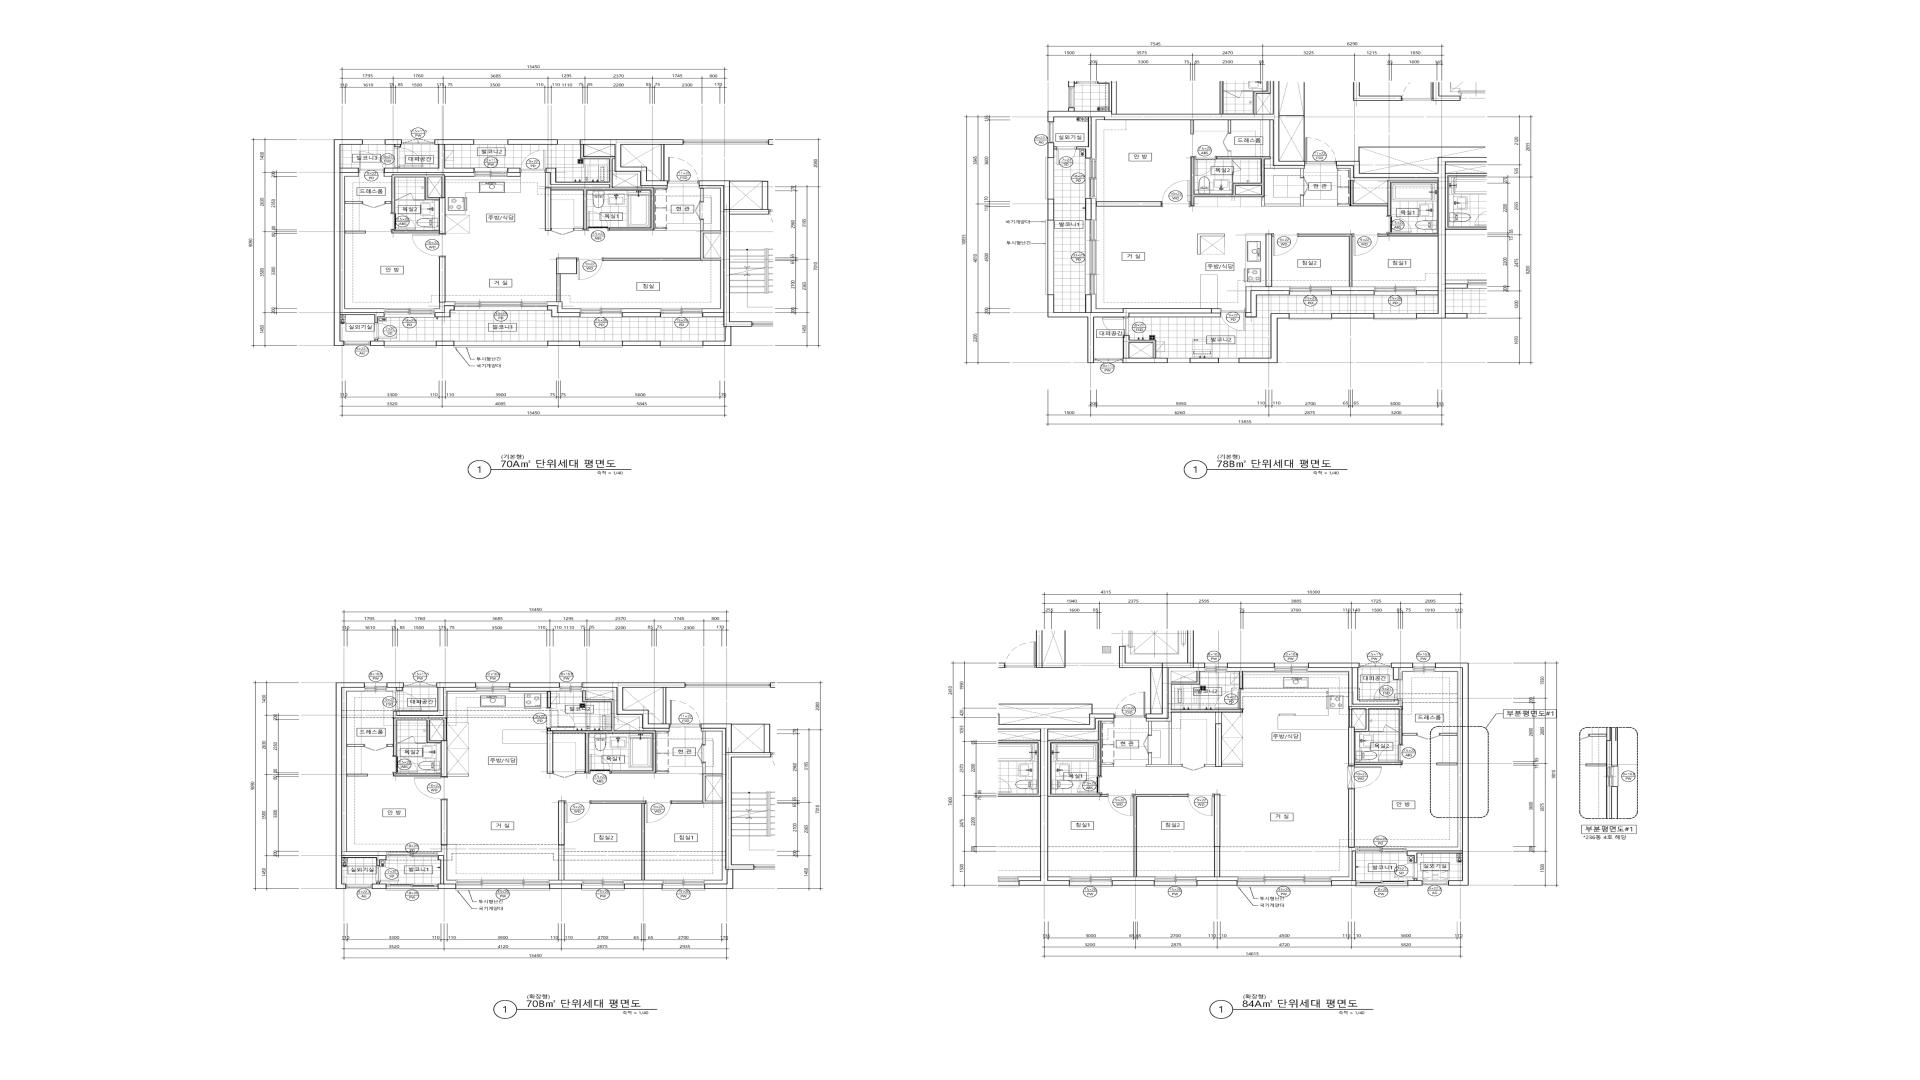door: (669, 700, 700, 727), (667, 157, 699, 183), (1114, 692, 1146, 719), (1305, 137, 1336, 164), (413, 233, 446, 257), (1162, 181, 1191, 207), (1349, 766, 1382, 789), (1352, 233, 1379, 256), (1374, 679, 1403, 700), (1215, 688, 1244, 709), (564, 800, 591, 823), (645, 800, 671, 823), (1220, 309, 1246, 331), (1273, 233, 1299, 256), (520, 150, 546, 173), (1108, 794, 1134, 816), (1188, 794, 1215, 816), (394, 148, 423, 167), (576, 258, 603, 280), (547, 708, 575, 728), (393, 691, 421, 711), (359, 152, 384, 173), (1102, 318, 1129, 335), (587, 211, 609, 231), (1378, 745, 1403, 762), (588, 754, 611, 773), (393, 756, 417, 773), (1387, 216, 1411, 233), (1077, 777, 1101, 794), (1195, 157, 1216, 175), (392, 214, 415, 229), (375, 323, 397, 339), (1395, 862, 1418, 878), (377, 866, 398, 882), (695, 200, 704, 220), (553, 771, 576, 778), (551, 228, 574, 235), (363, 202, 385, 208), (1418, 733, 1440, 740), (397, 736, 415, 744), (1224, 133, 1232, 152), (1143, 735, 1151, 753), (698, 745, 705, 762), (1300, 178, 1308, 195), (396, 193, 413, 200), (1182, 765, 1205, 770), (364, 745, 386, 750), (1232, 160, 1241, 171), (1383, 725, 1399, 732)
wall: (1047, 82, 1305, 166), (1336, 157, 1445, 319), (1407, 663, 1469, 886), (1040, 713, 1114, 886), (1047, 294, 1220, 363), (700, 724, 771, 889), (699, 181, 769, 345), (335, 683, 386, 889), (334, 140, 384, 345), (1407, 667, 1462, 851), (1146, 669, 1244, 766), (545, 145, 654, 231), (547, 691, 657, 774), (342, 687, 386, 856), (1120, 646, 1205, 719), (340, 173, 384, 313), (582, 683, 686, 729), (603, 220, 720, 261), (580, 140, 683, 186), (1134, 794, 1188, 877), (591, 800, 645, 880), (1191, 157, 1271, 206), (702, 729, 727, 884), (582, 687, 670, 731), (1308, 667, 1403, 707), (1308, 663, 1399, 704), (393, 717, 447, 777), (1349, 707, 1403, 766), (699, 186, 724, 313), (384, 140, 475, 173), (1299, 233, 1353, 286), (397, 683, 476, 716), (393, 687, 476, 717), (1238, 314, 1290, 363), (1265, 120, 1305, 178), (392, 174, 444, 214), (613, 160, 667, 187), (1336, 166, 1437, 181), (550, 845, 582, 884), (1246, 290, 1290, 318), (1124, 335, 1167, 363), (1246, 286, 1290, 313), (1048, 719, 1114, 732), (1332, 851, 1356, 886), (1332, 847, 1356, 881), (438, 845, 455, 884), (1197, 233, 1225, 255), (438, 856, 455, 889), (1092, 294, 1122, 313), (1262, 195, 1304, 207), (1092, 117, 1104, 158), (1215, 794, 1220, 877), (705, 777, 723, 800), (1171, 671, 1200, 684), (1129, 343, 1153, 359), (1129, 314, 1220, 318), (384, 173, 475, 177), (1391, 663, 1414, 679), (547, 306, 580, 316), (547, 302, 580, 313), (1096, 202, 1162, 207), (1266, 233, 1273, 286), (556, 257, 576, 274), (1349, 789, 1354, 848), (440, 799, 447, 845), (430, 720, 443, 742), (439, 257, 446, 302), (558, 800, 564, 845), (1352, 709, 1366, 729), (1216, 724, 1222, 766), (508, 140, 558, 145), (1228, 663, 1275, 669), (439, 198, 446, 233), (1332, 290, 1374, 295), (1332, 314, 1374, 319), (1112, 881, 1154, 886), (435, 306, 455, 316), (435, 302, 455, 313), (1197, 881, 1237, 886), (624, 884, 662, 889), (509, 683, 559, 687), (509, 687, 559, 691), (1228, 667, 1275, 671), (392, 229, 439, 233), (1399, 667, 1414, 679), (550, 884, 582, 889), (1332, 286, 1374, 290), (1112, 877, 1154, 881), (1197, 877, 1237, 881), (1189, 357, 1218, 363), (624, 880, 662, 884), (622, 309, 661, 313), (622, 342, 661, 345), (622, 313, 661, 316), (1085, 198, 1092, 220), (1047, 142, 1056, 158), (661, 145, 665, 181), (1047, 199, 1054, 220), (386, 683, 404, 691), (385, 140, 402, 148), (547, 342, 579, 345), (671, 800, 703, 804), (1408, 878, 1423, 886), (508, 167, 520, 177), (556, 274, 560, 302), (663, 687, 666, 724), (372, 882, 386, 889), (1092, 198, 1096, 220), (371, 339, 384, 345), (1416, 286, 1437, 290), (1048, 877, 1069, 881), (547, 691, 551, 708), (1240, 671, 1244, 688), (436, 342, 454, 345), (1150, 669, 1151, 713), (447, 774, 468, 777), (1228, 120, 1232, 133), (345, 231, 365, 233), (700, 189, 704, 202), (345, 202, 363, 204), (386, 687, 397, 691), (732, 724, 764, 725), (731, 181, 762, 182), (1403, 733, 1418, 736), (1191, 120, 1193, 135), (654, 228, 666, 231), (1222, 765, 1244, 766), (574, 228, 584, 231), (1228, 152, 1232, 157), (386, 744, 393, 746), (1101, 765, 1114, 766), (1370, 731, 1383, 732), (1337, 204, 1350, 206), (385, 202, 392, 204), (657, 771, 669, 773), (413, 199, 425, 200), (415, 742, 426, 744), (1205, 765, 1216, 766), (1232, 171, 1233, 182), (576, 771, 585, 773)
window: (455, 880, 550, 890), (1237, 877, 1332, 887), (1085, 220, 1096, 294), (455, 302, 547, 310), (454, 342, 547, 348), (1046, 220, 1054, 295), (384, 309, 435, 318), (1154, 877, 1197, 887), (662, 880, 704, 890), (582, 880, 624, 890), (1069, 877, 1112, 887), (1085, 158, 1096, 198), (1290, 286, 1332, 295), (1374, 286, 1416, 295), (661, 309, 703, 318), (580, 309, 622, 318), (384, 342, 436, 348), (1356, 881, 1408, 887), (1046, 158, 1054, 199), (475, 167, 508, 177), (1275, 663, 1308, 673), (579, 342, 622, 348), (1290, 314, 1332, 320), (1374, 314, 1416, 320), (661, 342, 703, 348), (386, 852, 438, 857), (386, 885, 438, 890), (1356, 847, 1407, 852), (476, 683, 509, 691), (402, 138, 434, 145), (1205, 663, 1228, 673), (1414, 663, 1435, 673), (473, 140, 508, 145), (559, 683, 582, 691), (364, 683, 386, 691), (404, 682, 436, 687), (1360, 662, 1391, 667), (1095, 359, 1124, 364), (1047, 123, 1054, 142), (1167, 357, 1189, 363), (363, 140, 385, 145), (558, 140, 580, 145), (345, 885, 372, 889), (1218, 357, 1238, 363), (344, 342, 371, 345), (1423, 881, 1448, 885)
